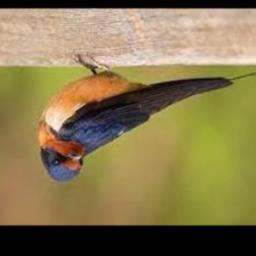Swallow: (36, 53, 256, 181)
